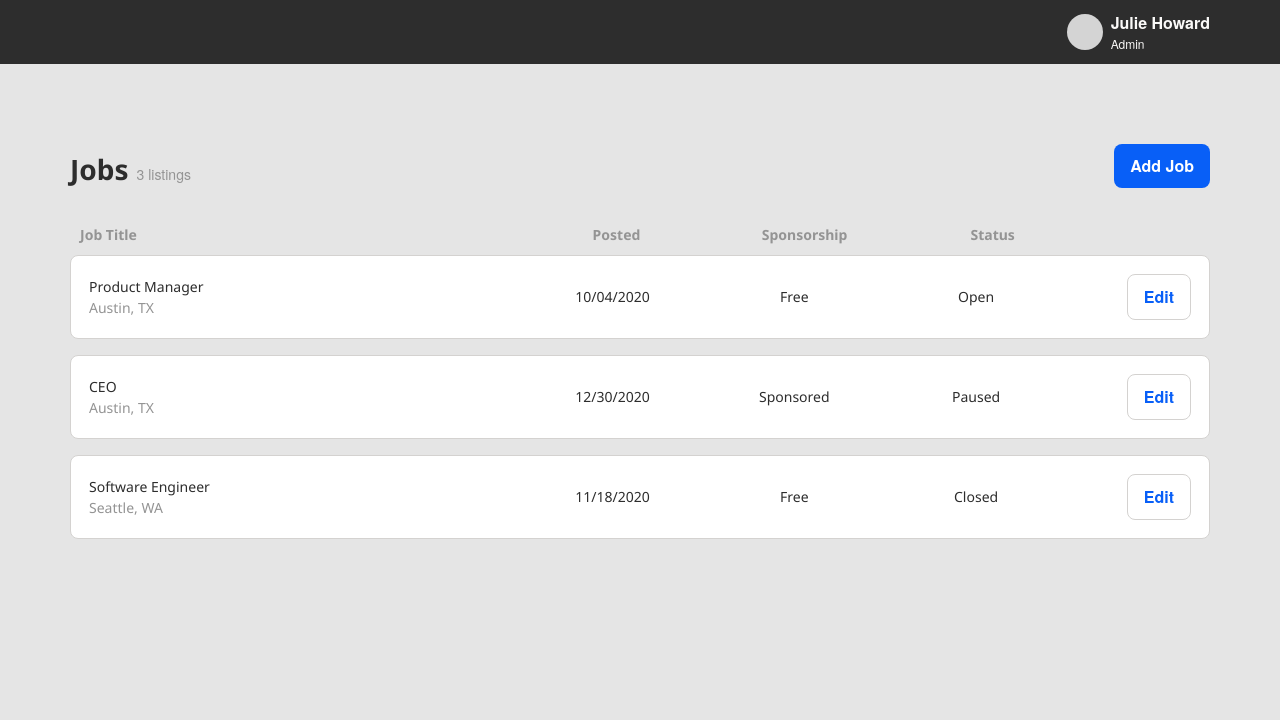
Test: <AddEdit /> renders heading for /edit page
The image size is (1280, 720).
Click the link with test id "edit-job-btn" next to "Open" at (1159, 297), box [1127, 274, 1191, 320]
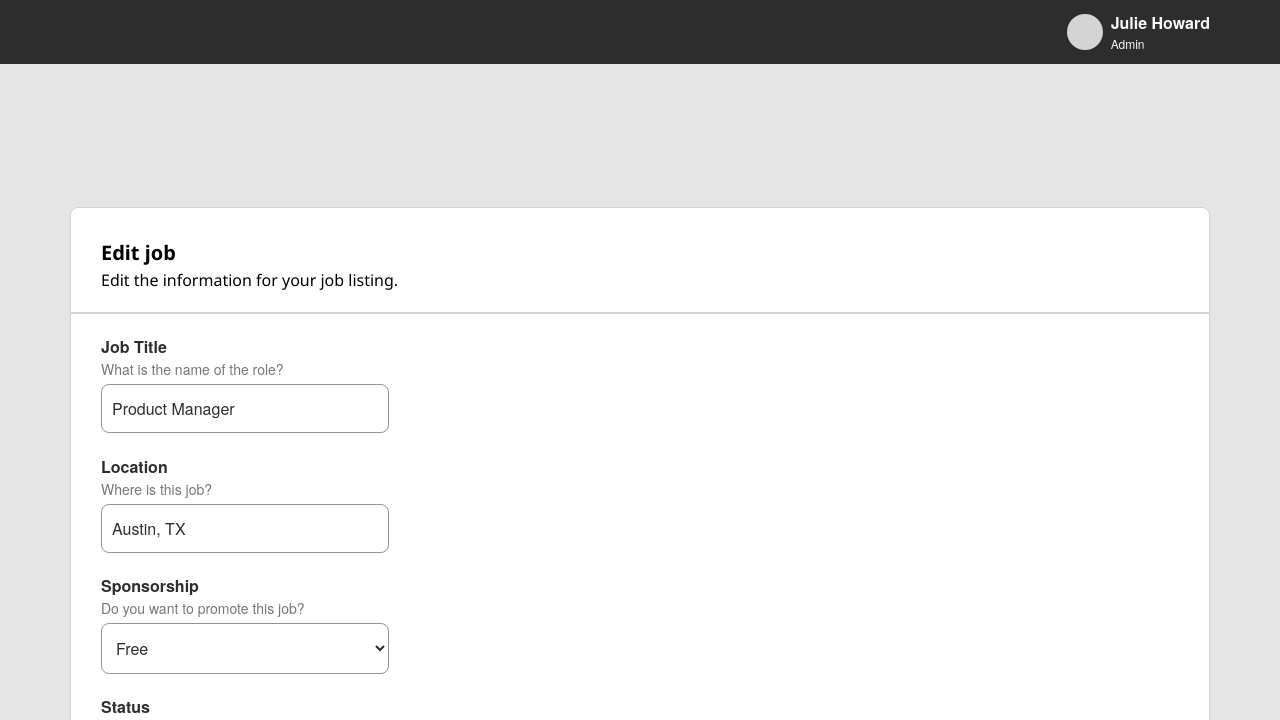
Expected: the heading with test id "add-edit-heading" reads "Edit job", [101, 239, 176, 266]
